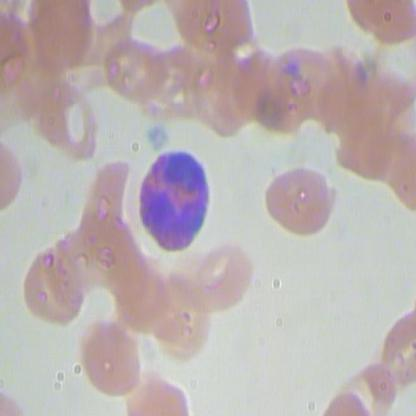RBC: (148, 270, 221, 364), (71, 154, 144, 248), (183, 233, 261, 312), (75, 317, 153, 396), (31, 82, 109, 161), (263, 166, 341, 244), (18, 244, 96, 322), (190, 48, 255, 139), (266, 42, 339, 122), (104, 31, 166, 106), (32, 1, 94, 71), (333, 361, 402, 415)
WBC: (136, 150, 213, 258)
